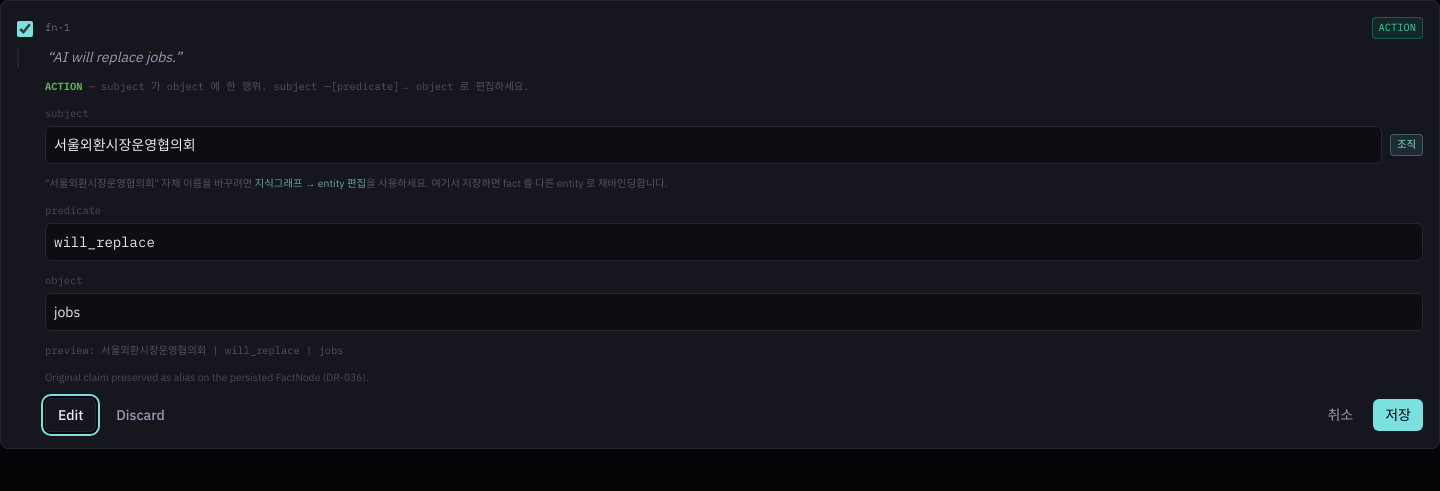
it: FactCard - decide-ux-v2 (3): edit-mode entity chips › clicking a subject chip binds editedSubjectUid and fills the input
Replace the text in the field with test id "fact-edit-subject-fn-1" with "ACME" at (713, 145), box [45,126,1382,164]
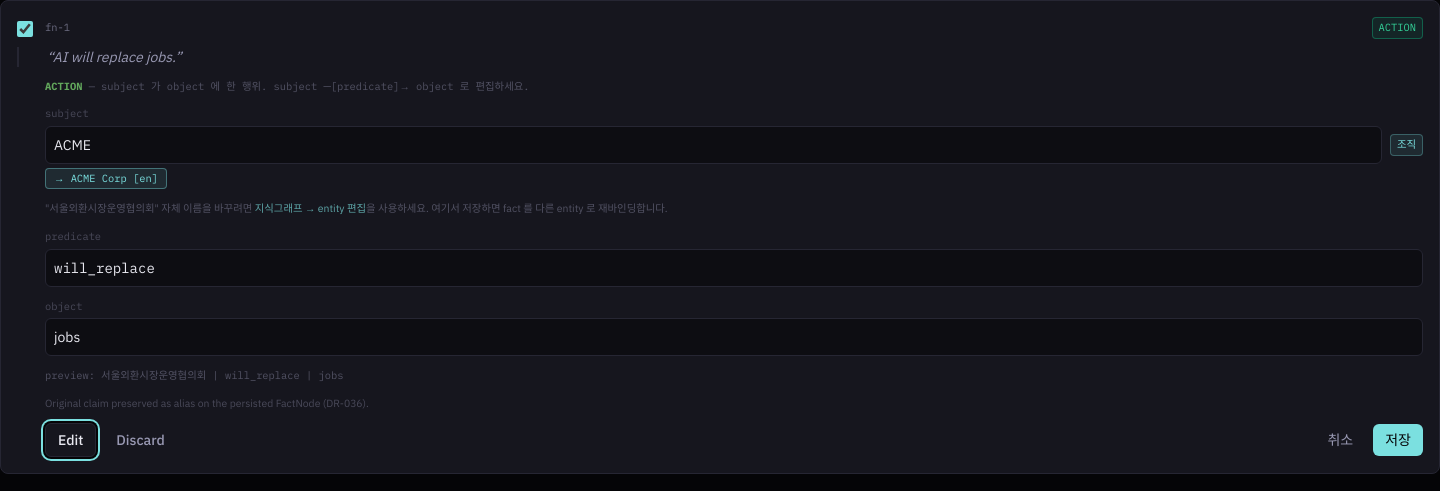
Result: the button with test id "subject-chip-uuid-acme" is shown
Click the button with test id "subject-chip-uuid-acme" at (106, 179), box [45,168,167,189]
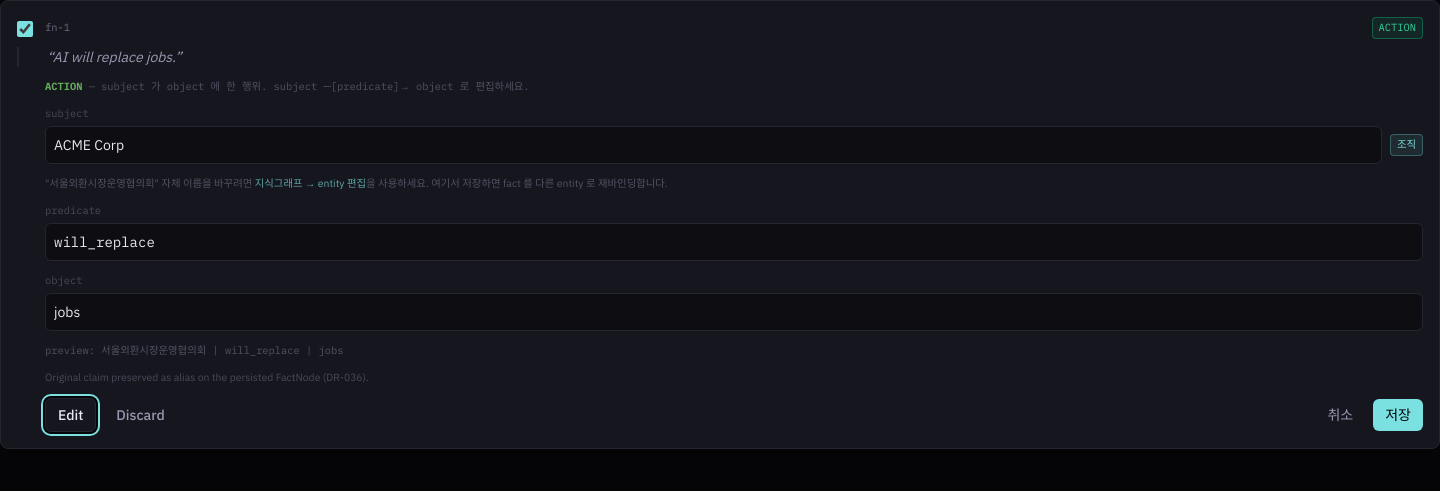
Result: the field with test id "fact-edit-subject-fn-1" holds "ACME Corp" at [45,126,1382,164]
